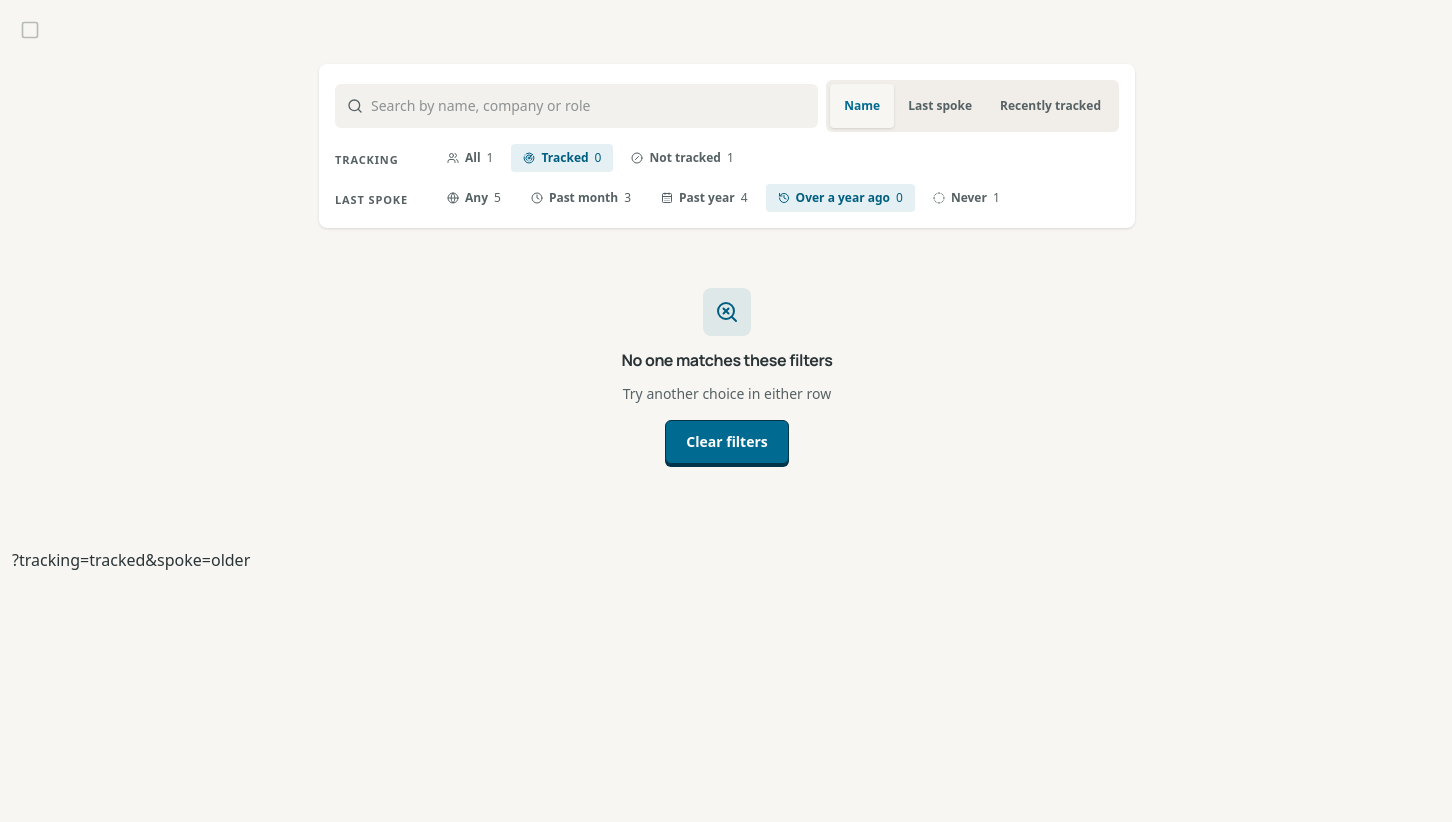
the Tracked contacts page's filters › says when the filters leave nobody, and clears them
Check: the heading "No one matches these filters" is shown, box [622, 348, 832, 372]
Click the button "Clear filters": click(727, 442) [665, 420, 789, 464]
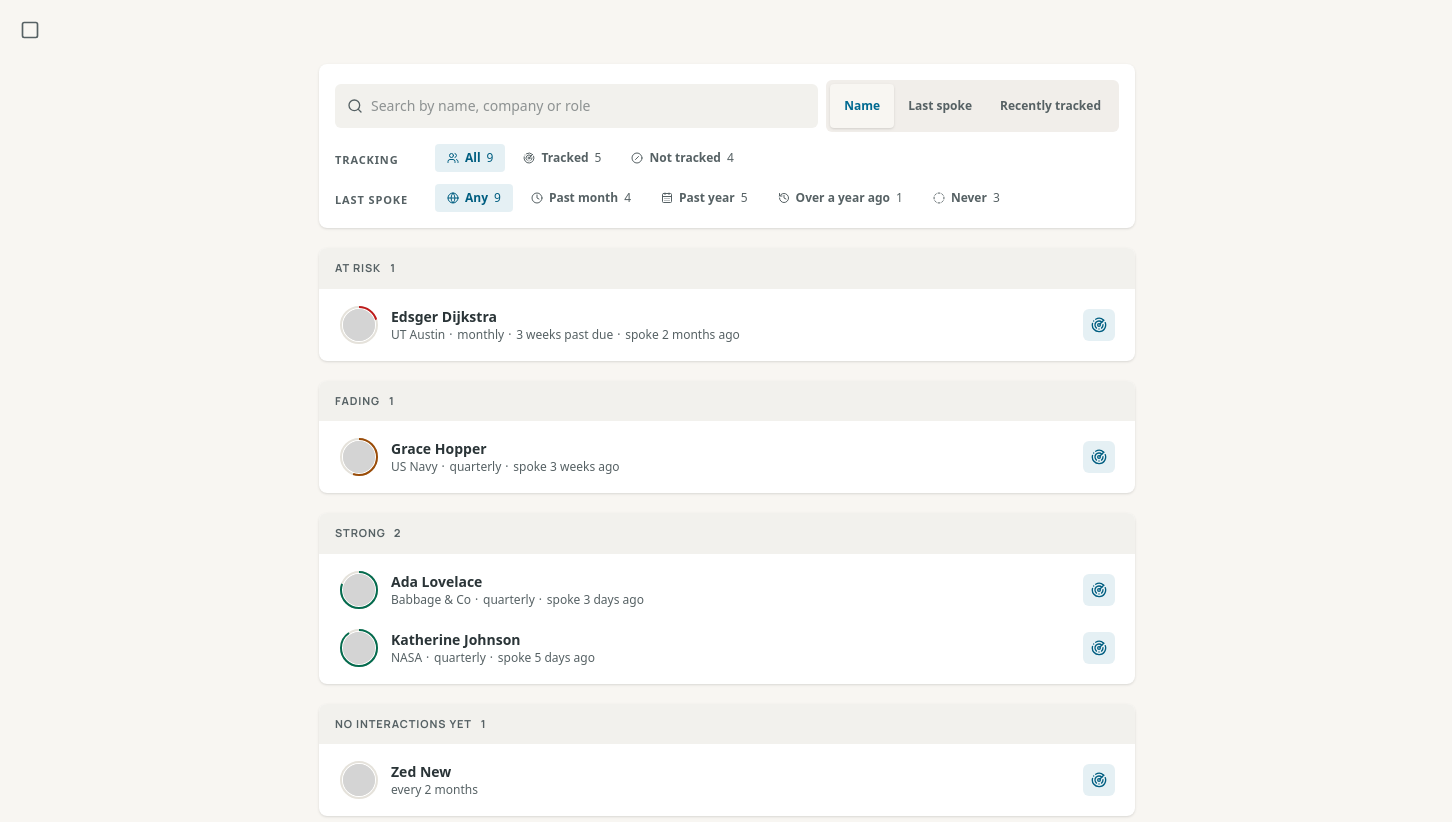
Check: the heading "At risk 1" is shown, box [335, 260, 397, 276]
